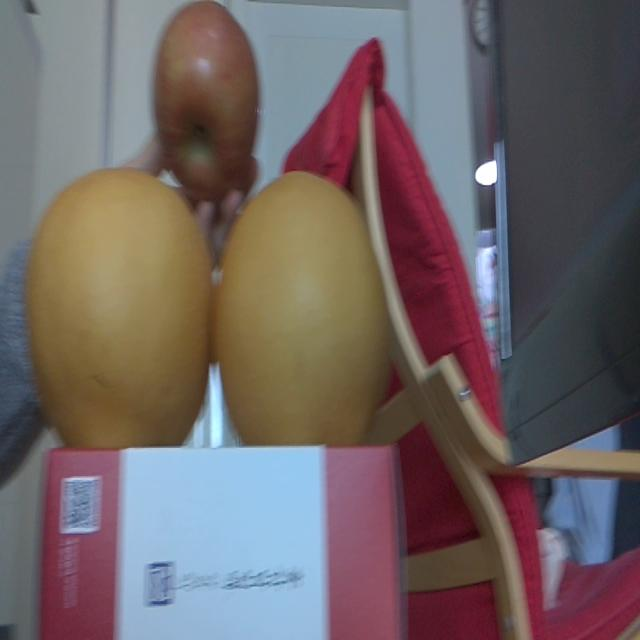apple: (153, 0, 260, 173)
pear: (27, 171, 210, 447), (220, 173, 390, 445)
